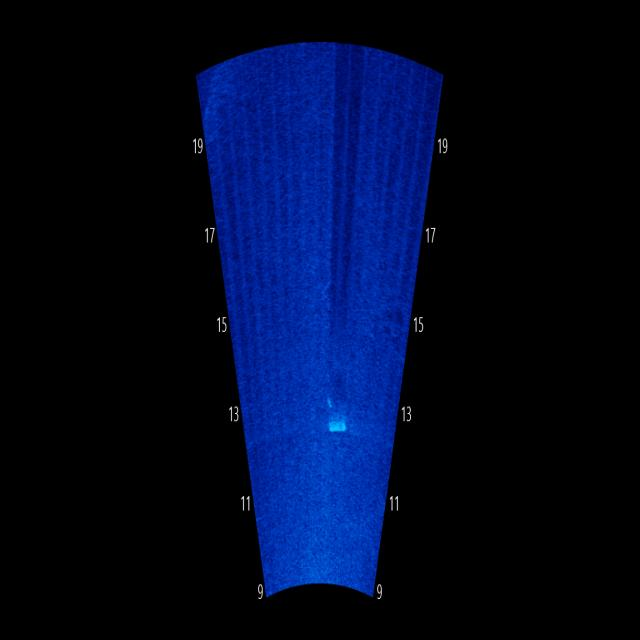square: (317, 380, 361, 450)
